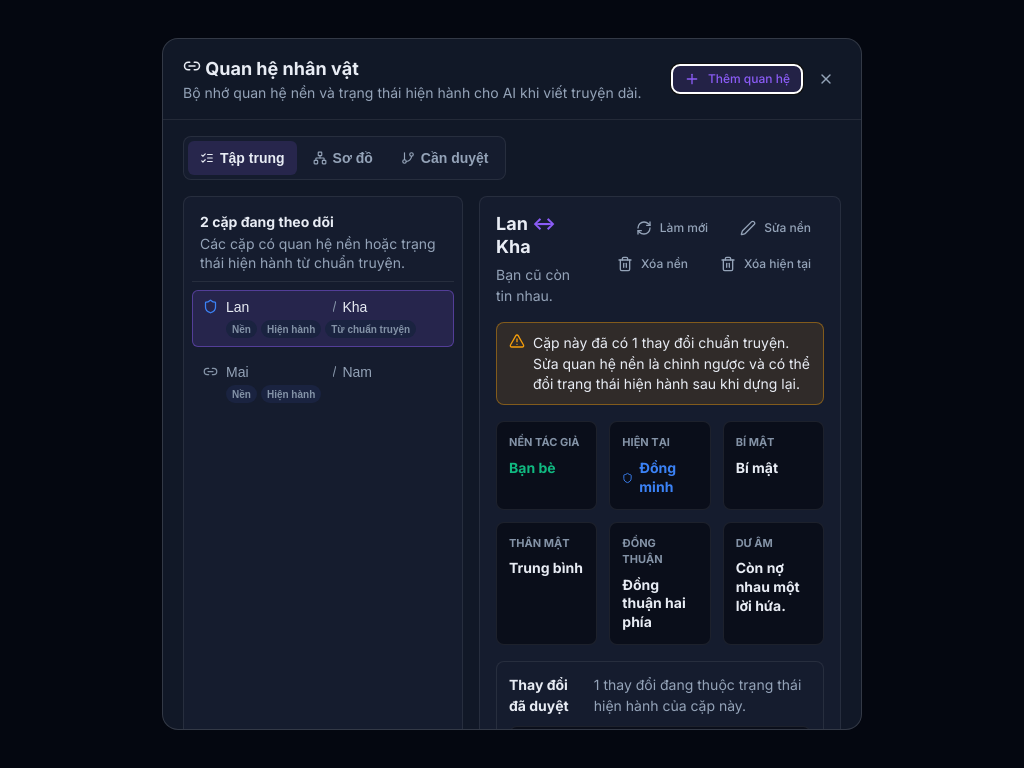
it: phase10 relationship cockpit V1 › reloads relationship states when returning to the focus tab
This screenshot has width=1024, height=768.
Click the button "Cần duyệt".
click(445, 158)  # box [389, 141, 500, 175]
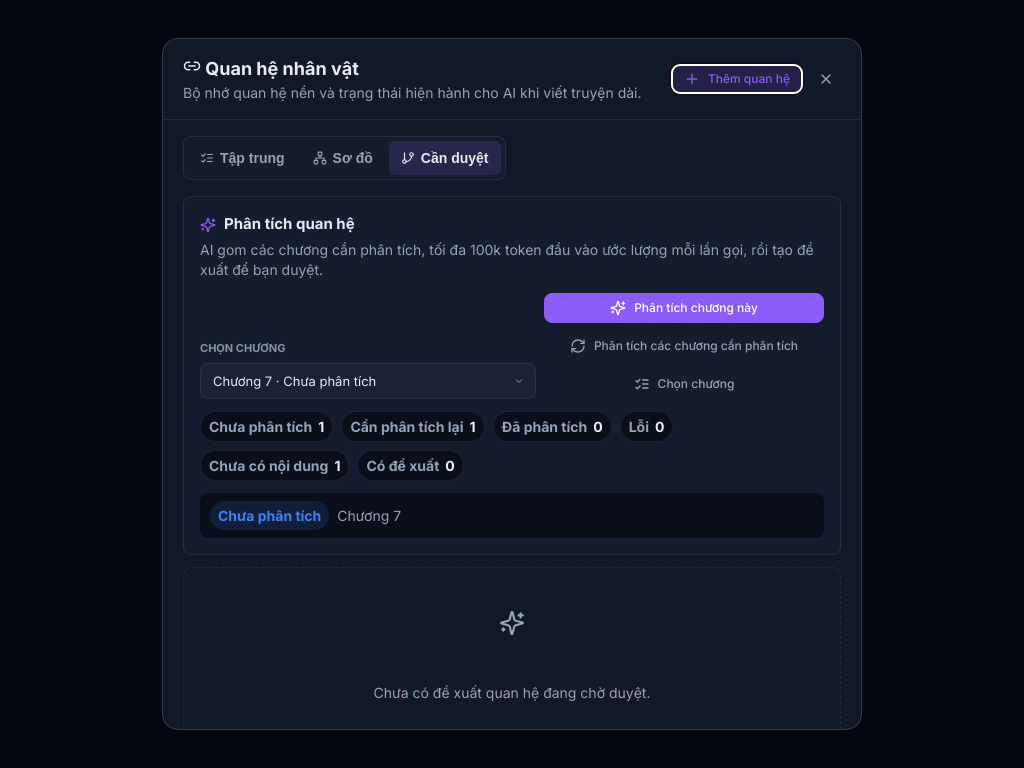
Click the button "Tập trung".
click(242, 158)  # box [188, 141, 296, 175]
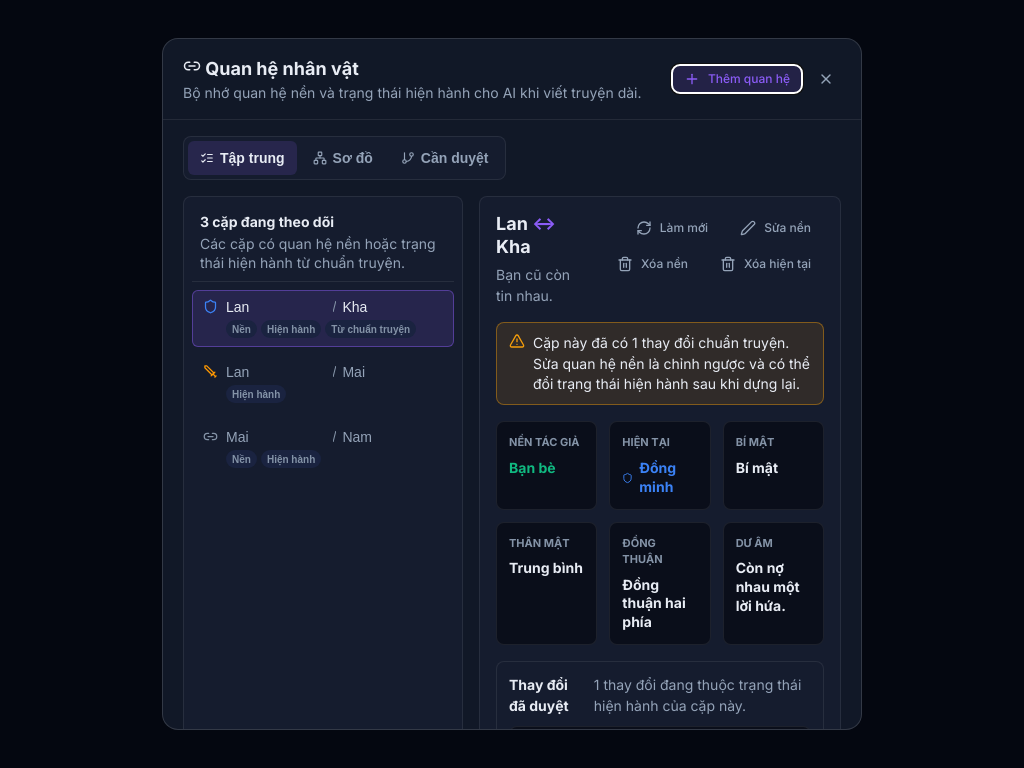
Check: the button with class "rel-pair-button" showing "Lan / Mai Hiện hành" is shown, box [192, 355, 454, 412]
